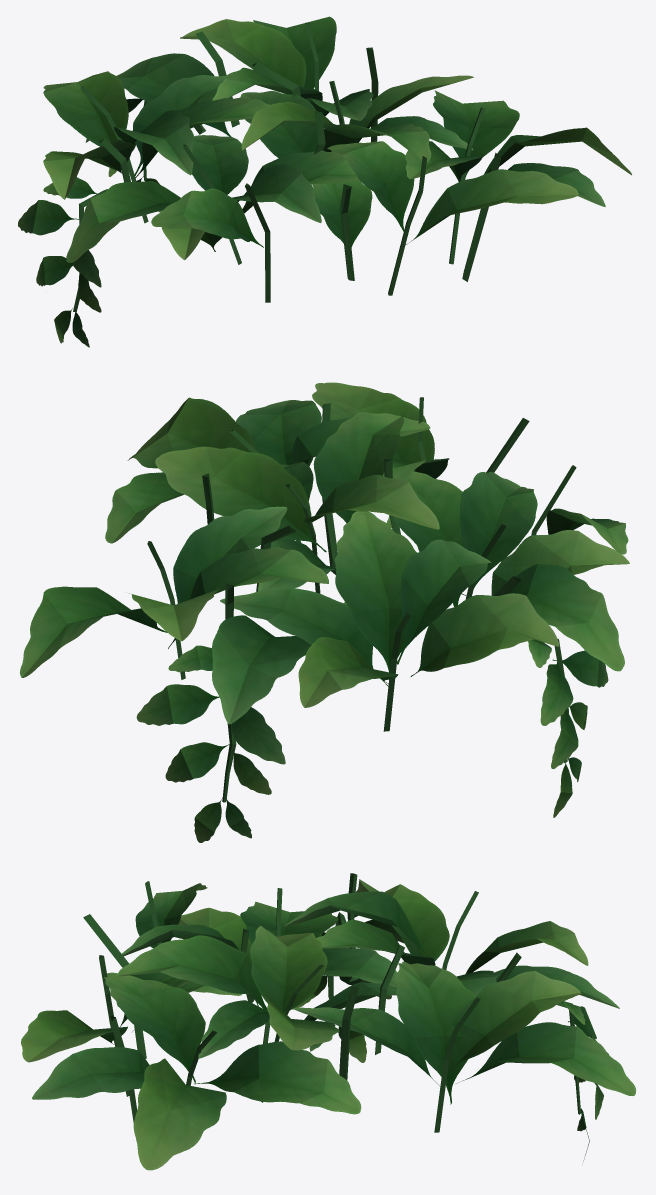
The model's file is P_FlowerSansejing_01.obj.
3 views of the same model, one above another, from view 1: azimuth 30°, elevation 25°; view 2: azimuth 150°, elevation 25°; view 3: azimuth 270°, elevation 25° (orthographic). The views are drawn at different scales.
Size of the model in its own units: 0.7591 by 0.3261 by 0.7623.
Materials: 1 (1 with a texture image).
